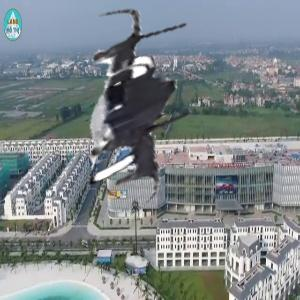drone: (28, 4, 241, 217)
